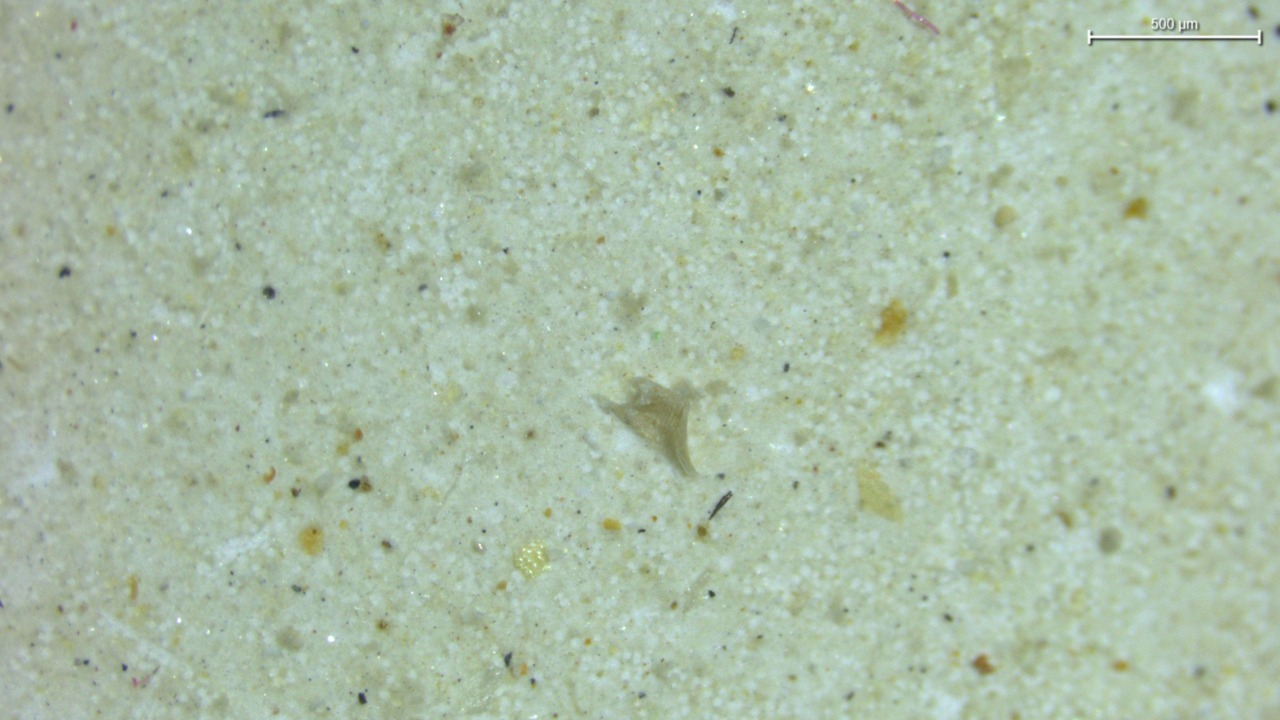microplastic_fragment: (594, 377, 698, 475), (513, 540, 549, 579)
